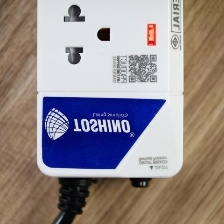three_eye_plug: (30, 0, 187, 185)
